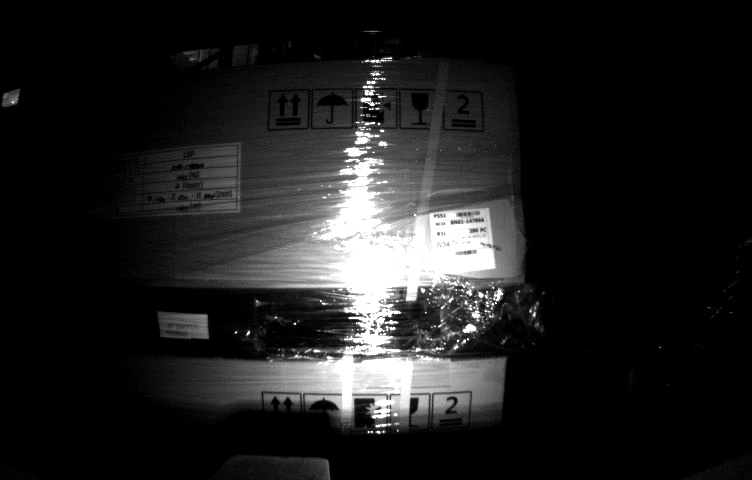True Barcode: (427, 202, 494, 273)
